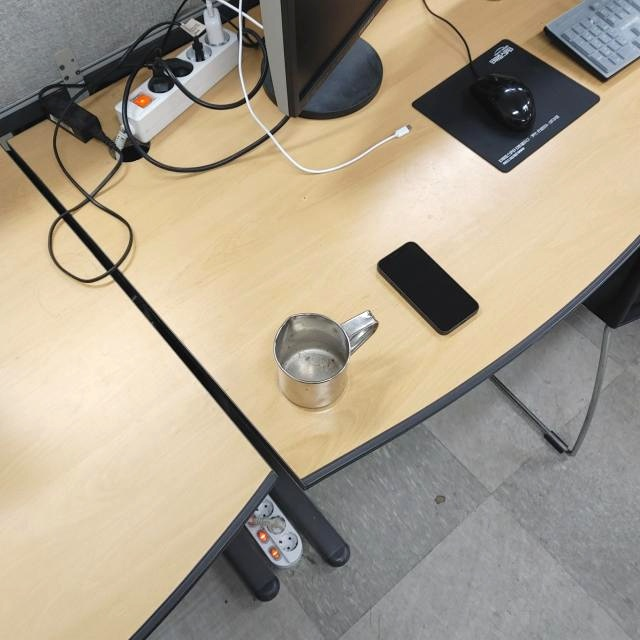cup: (273, 312, 379, 412)
phone: (376, 240, 479, 336)
